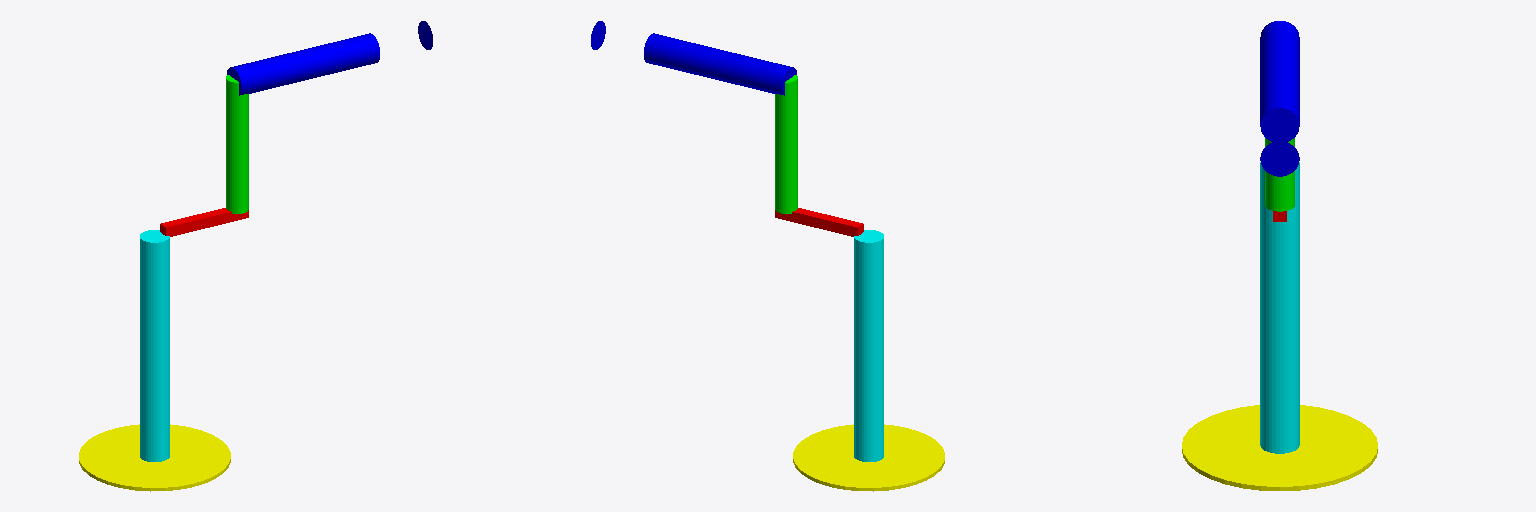
The robot description file, URDF, robot "simple_robot":
<robot name="simple_robot"> <!--  robot name- you decide   -->
<!--  sequence : link-joint-link-joint- ... -link    -->
<!--  first link called base_link --> 
<!--  units: meters for distance, rad in case of angles -->  
<link name="base_link">
    <visual>
      <geometry>
        <cylinder length="0.01" radius="0.2"/> 
      </geometry>
      <origin rpy="0 0 0" xyz="0 0 0"/> <!--  rpy: roll pitch yaw -> orientation xyz> position --> 
      <material name="generic">
        <color rgba="1 1 0 1"/>
      </material>
    </visual>
  </link>
<!--  first joint --> 
  <joint name="joint1" type="revolute"> <!--  types: revolute and prismatic --> 
    <parent link="base_link"/>
    <child link="link1"/>
    <origin xyz="0 0 0"/>
    <axis xyz="0 0 1"/>
    <limit effort="300" velocity="0.1" lower="-3.14" upper="3.14"/>
    <dynamics damping="50" friction="1"/>
  </joint>
<!--  link 1--> 
  <link name="link1">
    <visual>
      <geometry>
        <cylinder length="0.65" radius="0.04"/>
      </geometry>
      <origin rpy="0 0 0" xyz="0 0 0.315"/>
      <material name="generic_2">
        <color rgba="0 1 1 1"/>
      </material>
    </visual>
  </link>
<!--  joint 2--> 
  <joint name="joint2" type="prismatic">
    <parent link="link1"/>
    <child link="link2"/>
    <origin xyz="0 0 0.65"/>
    <axis xyz="-1 0 0"/>
    <limit effort="300" velocity="0.1" lower="-0.2" upper="0.2"/>
    <dynamics damping="50" friction="1"/>
  </joint>
  <link name="link2">
    <visual>
      <geometry>
        <box size="0.25 0.03 0.03"/>
      </geometry>
      <origin rpy="0 0 0" xyz="0.15 0 0"/>
      <material name="generic_5">
        <color rgba="1 0 0 1"/>
      </material>
    </visual>
  </link>
<!--  joint 3--> 
  <joint name="joint3" type="revolute">
    <parent link="link2"/>
    <child link="link3"/>
    <origin xyz="0.25 0 0"/>
    <axis xyz="0 0 -1"/>
    <limit effort="300" velocity="0.1" lower="-3.14" upper="3.14"/>
    <dynamics damping="50" friction="1"/>
  </joint>
<!--  link 3--> 
  <link name="link3">
    <visual>
      <geometry>
        <cylinder length="0.38" radius="0.03"/>
      </geometry>
      <origin rpy="0 0 1.5708" xyz="0 0 0.2"/>
      <material name="generic_4">
        <color rgba="0 1 0 1"/>
      </material>
    </visual>
  </link>
<!--  link 4--> 
  <joint name="joint4" type="revolute">
    <parent link="link3"/>
    <child link="link4"/>
    <origin xyz="0 0 0.38"/>
    <axis xyz="1 0 0"/>
    <limit effort="300" velocity="0.1" lower="-3.14" upper="3.14"/>
    <dynamics damping="50" friction="1"/>
  </joint>
  <link name="link4">
    <visual>
      <geometry>
        <cylinder length="0.42" radius="0.04"/>
      </geometry>
      <origin rpy="0 1.57079 0" xyz="0.2 0 0"/>
      <material name="generic_2">
        <color rgba="0 0 1 1"/>
      </material>
    </visual>
  </link>

<!-- link extra-->
  <joint name="joint5" type="revolute">
    <parent link="link4"/>
    <child link="link5"/>
    <origin xyz="0.42 0 0"/>
    <axis xyz="1 0 0"/>
    <limit effort="300" velocity="0.1" lower="-3.14" upper="3.14"/>
    <dynamics damping="50" friction="1"/>
  </joint>
  <link name="link5">
    <visual>
      <geometry>
        <cylinder length="0" radius="0.04"/>
      </geometry>
      <origin rpy="0 1.57079 0" xyz="0.15 0 0"/>
      <material name="generic_2">
        <color rgba="0 0 1 1"/>
      </material>
    </visual>
  </link>
</robot>

--- What the picture shows (computed from the rendered views, not written in the file) ---
The picture shows the robot from 3 angles, left to right: view 1: azimuth 30°, elevation 25°; view 2: azimuth 150°, elevation 25°; view 3: azimuth 270°, elevation 25°; orthographic projection.
Robot: simple_robot — 6 links, 5 joints (4 revolute, 1 prismatic); root link base_link; default pose: every joint at zero.
Visible links, largest first — view 1: base_link, link1, link4, link3, link2; view 2: base_link, link1, link4, link3, link2; view 3: base_link, link1, link4, link3, link5.
Boxes of the visible links, x1=… form: base_link: x1=79, y1=424, x2=230, y2=491; link1: x1=140, y1=230, x2=169, y2=461; link4: x1=227, y1=33, x2=379, y2=95; link3: x1=226, y1=75, x2=248, y2=213; link2: x1=160, y1=208, x2=248, y2=236; base_link: x1=793, y1=424, x2=944, y2=491; link1: x1=854, y1=230, x2=883, y2=461; link4: x1=644, y1=33, x2=796, y2=95; link3: x1=775, y1=75, x2=797, y2=213; link2: x1=775, y1=208, x2=863, y2=236; base_link: x1=1182, y1=405, x2=1377, y2=490; link1: x1=1260, y1=162, x2=1299, y2=453; link4: x1=1260, y1=21, x2=1299, y2=141; link3: x1=1265, y1=138, x2=1294, y2=211; link5: x1=1260, y1=141, x2=1299, y2=176.
Bounding box of the posed robot: 1.02 × 0.4 × 1.08 m (x, y, z).
Geometry: primitives only (box / cylinder / sphere), no mesh files.